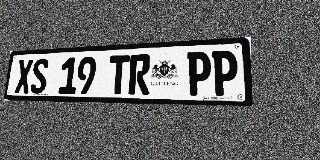1: (58, 57, 79, 94)
9: (76, 56, 97, 94)
P: (212, 50, 238, 96), (187, 51, 211, 96)
R: (128, 54, 151, 95)
S: (30, 58, 49, 94)
T: (108, 55, 130, 95)
X: (15, 59, 33, 94)
